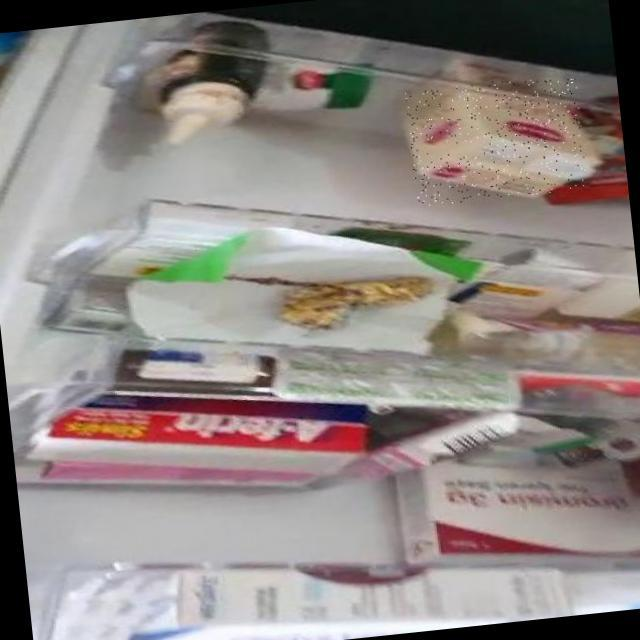milk: (404, 72, 587, 206)
